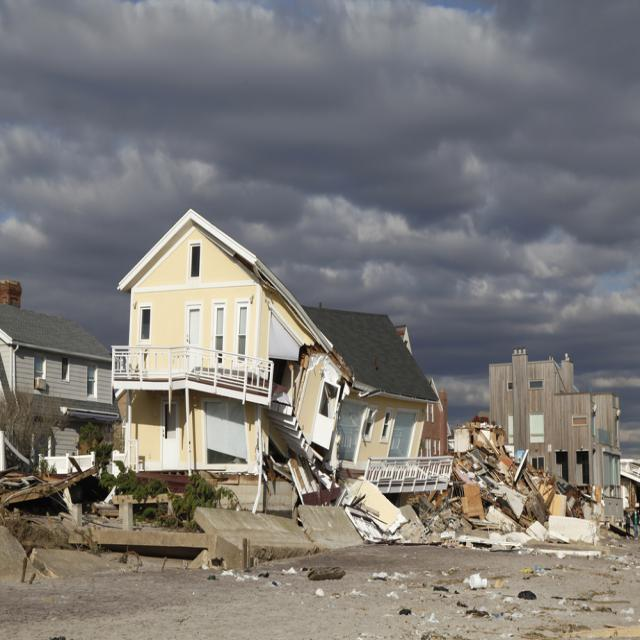Severely_Damaged: (253, 256, 596, 578)
